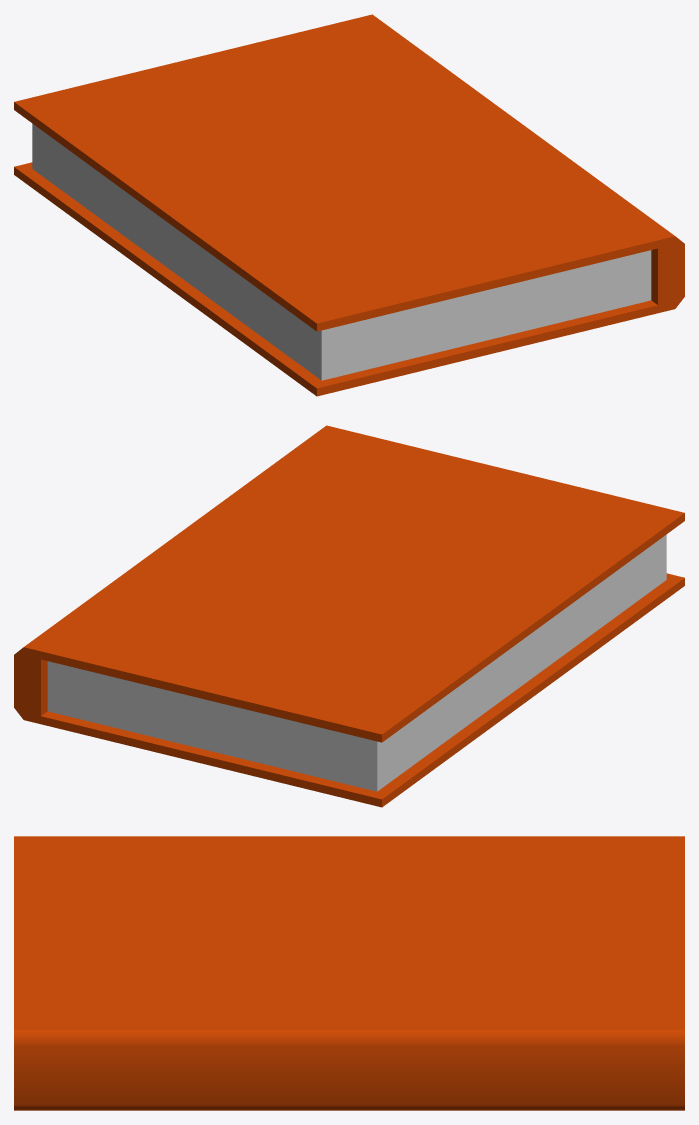
Rendered from Book_Orange.fbx.
3 renders of one model, top to bottom at view 1: azimuth 30°, elevation 25°; view 2: azimuth 150°, elevation 25°; view 3: azimuth 270°, elevation 25°, orthographic. The views are drawn at different scales.
Parts seen in each view (by area): view 1: Book_Orange; view 2: Book_Orange; view 3: Book_Orange.
Part boxes in pixels (x1,y1,x2,y2): Book_Orange: [14, 14, 684, 396]; Book_Orange: [14, 425, 684, 807]; Book_Orange: [14, 836, 684, 1110].
Size of the model in its own units: 19.09 by 3.61 by 27.21.
